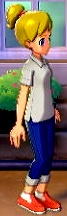woman_no_egg: (5, 3, 63, 216)
